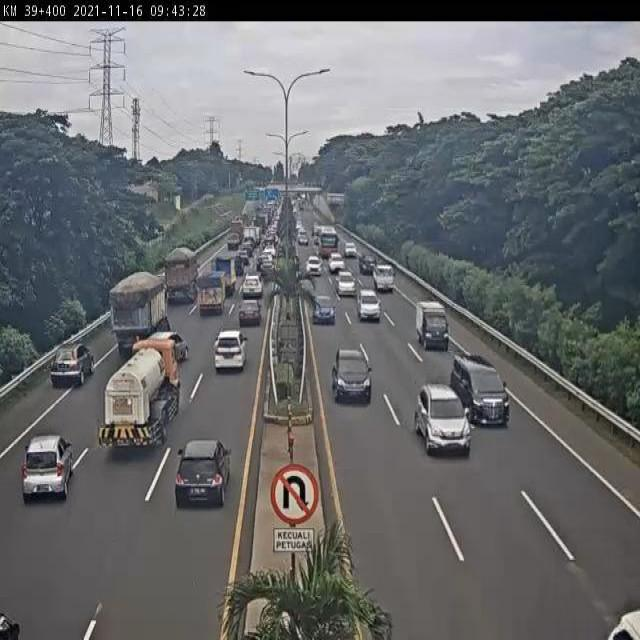big bus: (321, 227, 333, 253)
car: (172, 435, 235, 512), (20, 425, 77, 508), (451, 353, 511, 431), (416, 381, 472, 459), (37, 334, 92, 402), (331, 348, 373, 408), (213, 323, 245, 376), (420, 309, 444, 344), (238, 303, 260, 332), (239, 276, 260, 300), (369, 260, 387, 283), (360, 296, 376, 320), (314, 295, 331, 317), (354, 247, 370, 269), (327, 248, 341, 268), (335, 269, 349, 288), (262, 259, 273, 281), (342, 241, 355, 259), (307, 253, 319, 271)
truck-l-: (109, 272, 172, 356), (163, 244, 196, 304)
truck-m-: (96, 330, 185, 450), (196, 268, 224, 320), (211, 255, 237, 296)
